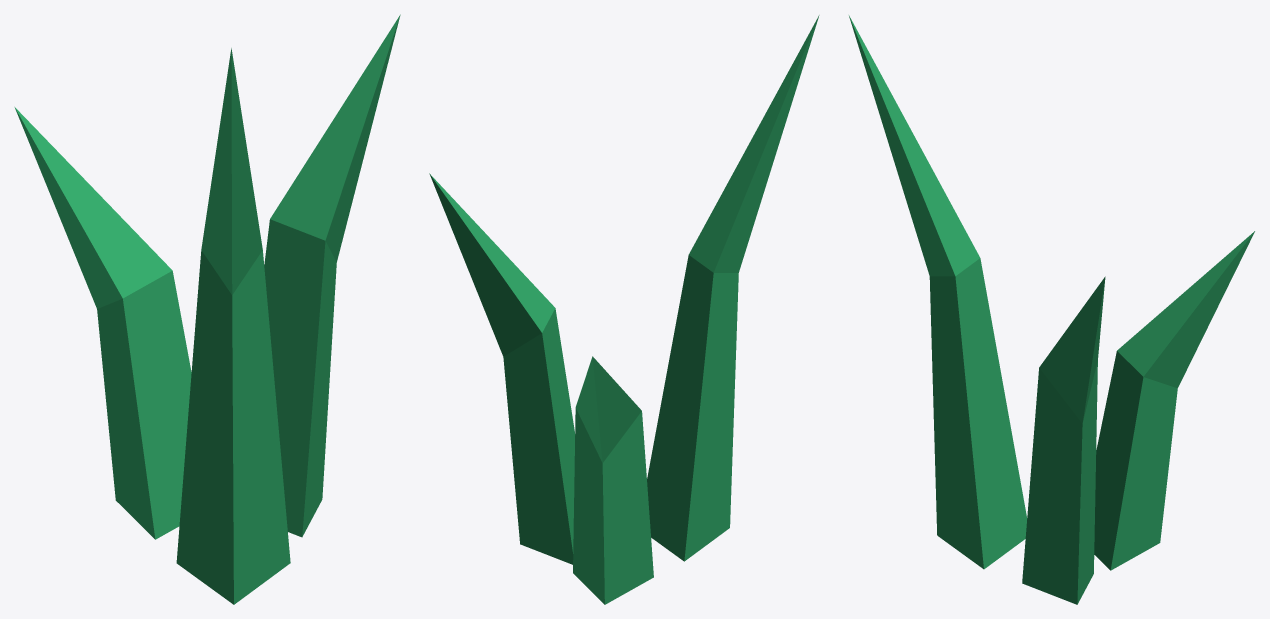
The model's file is grass3.gltf.
3 views of the same model, side by side, from view 1: azimuth 30°, elevation 25°; view 2: azimuth 150°, elevation 25°; view 3: azimuth 270°, elevation 25° (orthographic). The views are drawn at different scales.
Visible parts, largest first — view 1: Circle.015; view 2: Circle.015; view 3: Circle.015.
Part boxes in pixels (<box>): Circle.015: <box>14,14,400,604</box>; Circle.015: <box>429,15,819,604</box>; Circle.015: <box>849,15,1254,604</box>.
Size of the model in its own units: 22.37 by 39.98 by 29.57.
